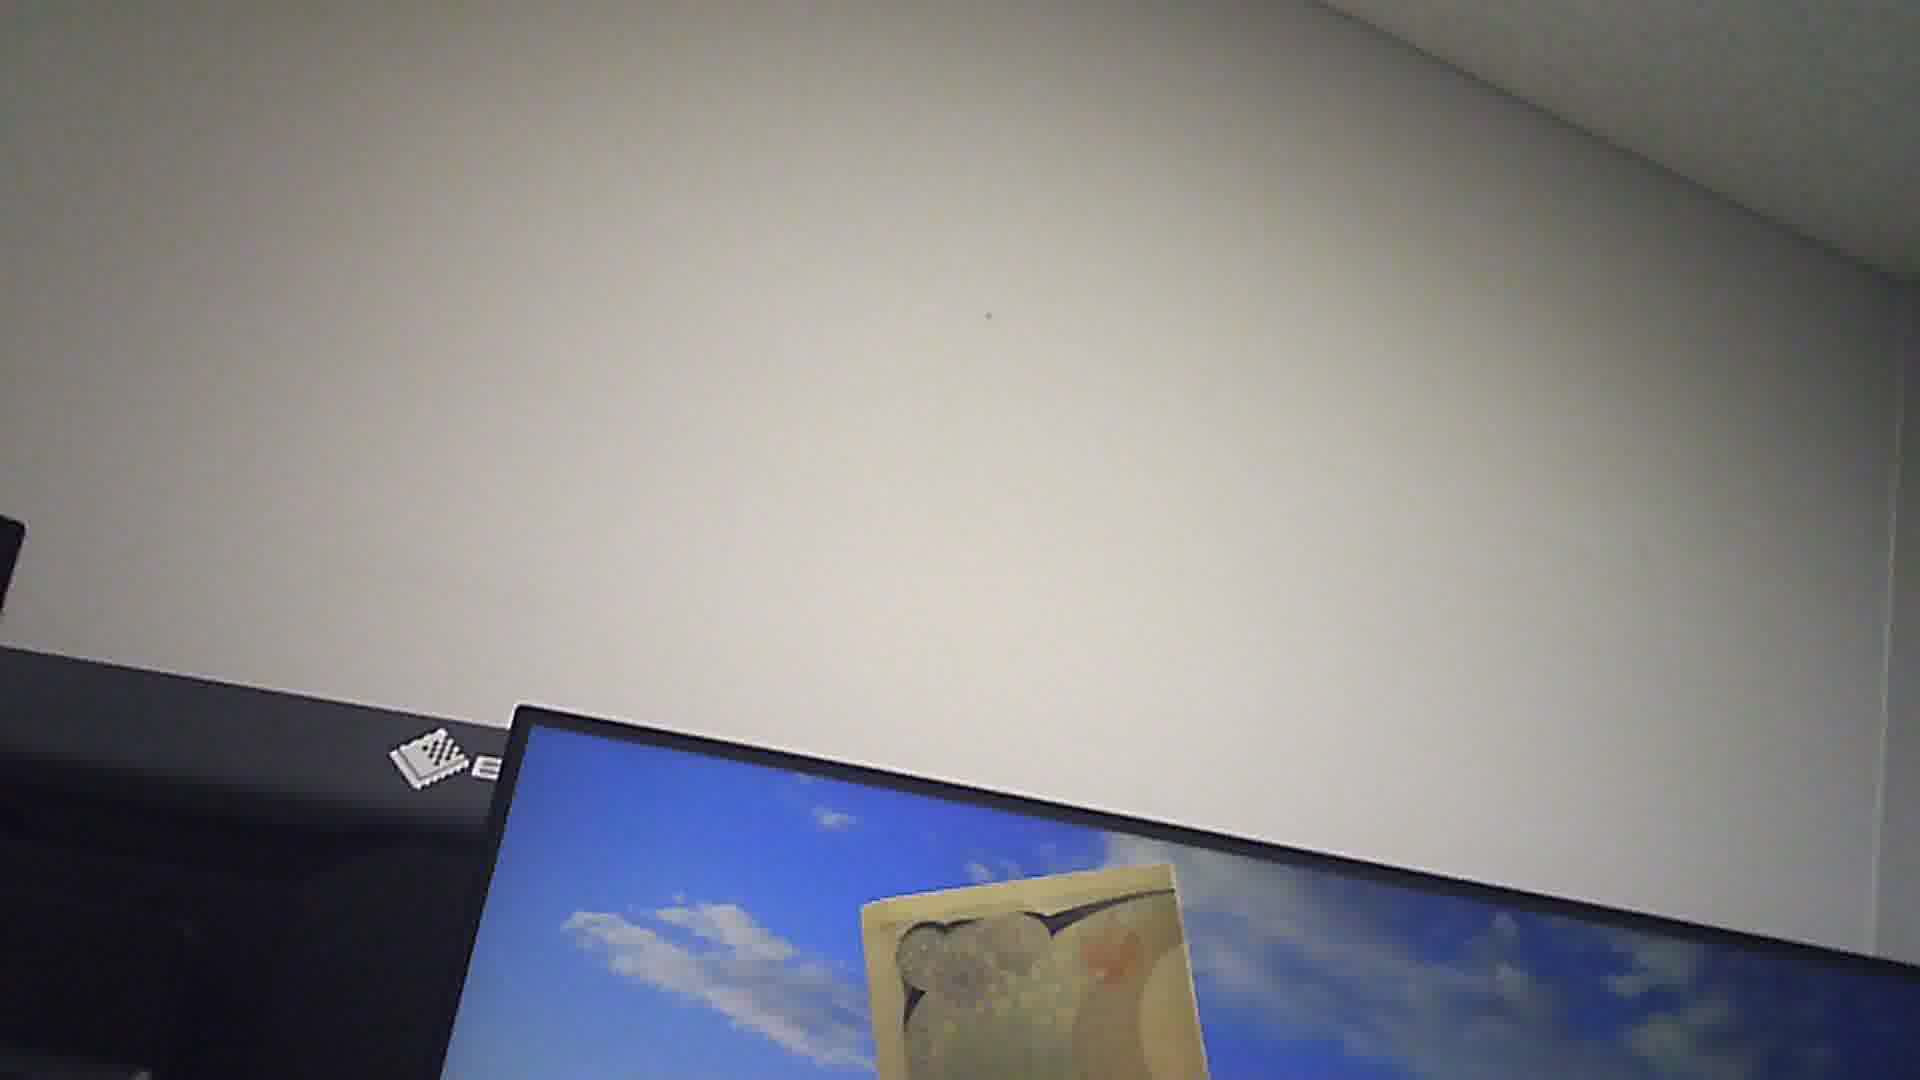1,000 Yen: (837, 861, 1221, 1079)
